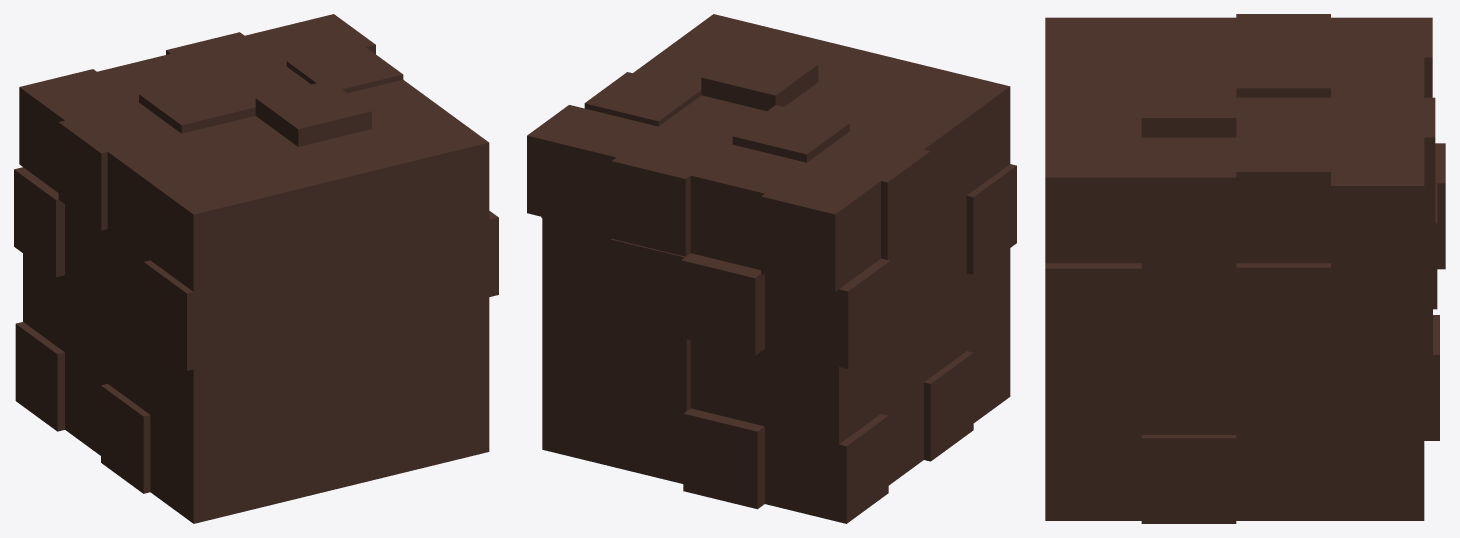
File: own.fbx
3 renders of one model, left to right at view 1: azimuth 30°, elevation 25°; view 2: azimuth 150°, elevation 25°; view 3: azimuth 270°, elevation 25°, orthographic. The views are drawn at different scales.
Parts seen in each view (by area): view 1: Cube; view 2: Cube; view 3: Cube.
Part boxes in pixels (x1=…): Cube: x1=14, y1=14, x2=498, y2=523; Cube: x1=527, y1=14, x2=1016, y2=523; Cube: x1=1045, y1=14, x2=1445, y2=523.
Bounding box in the file's own units: 217 × 211 × 211.
